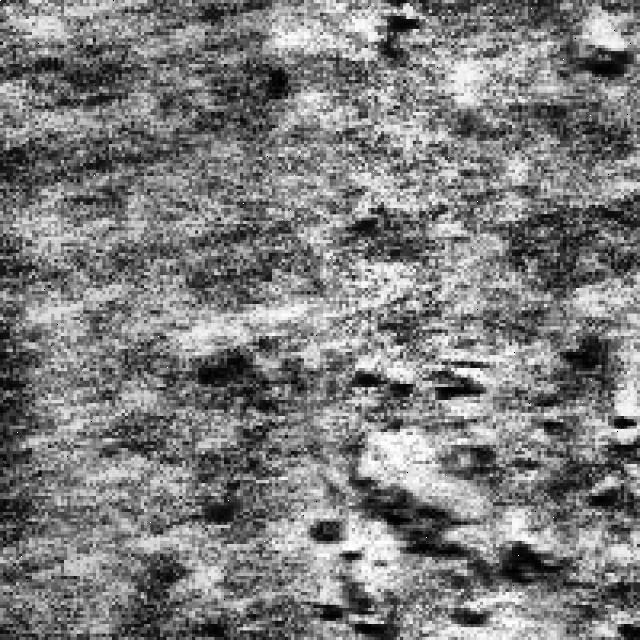Crazing: (259, 358, 637, 637)
